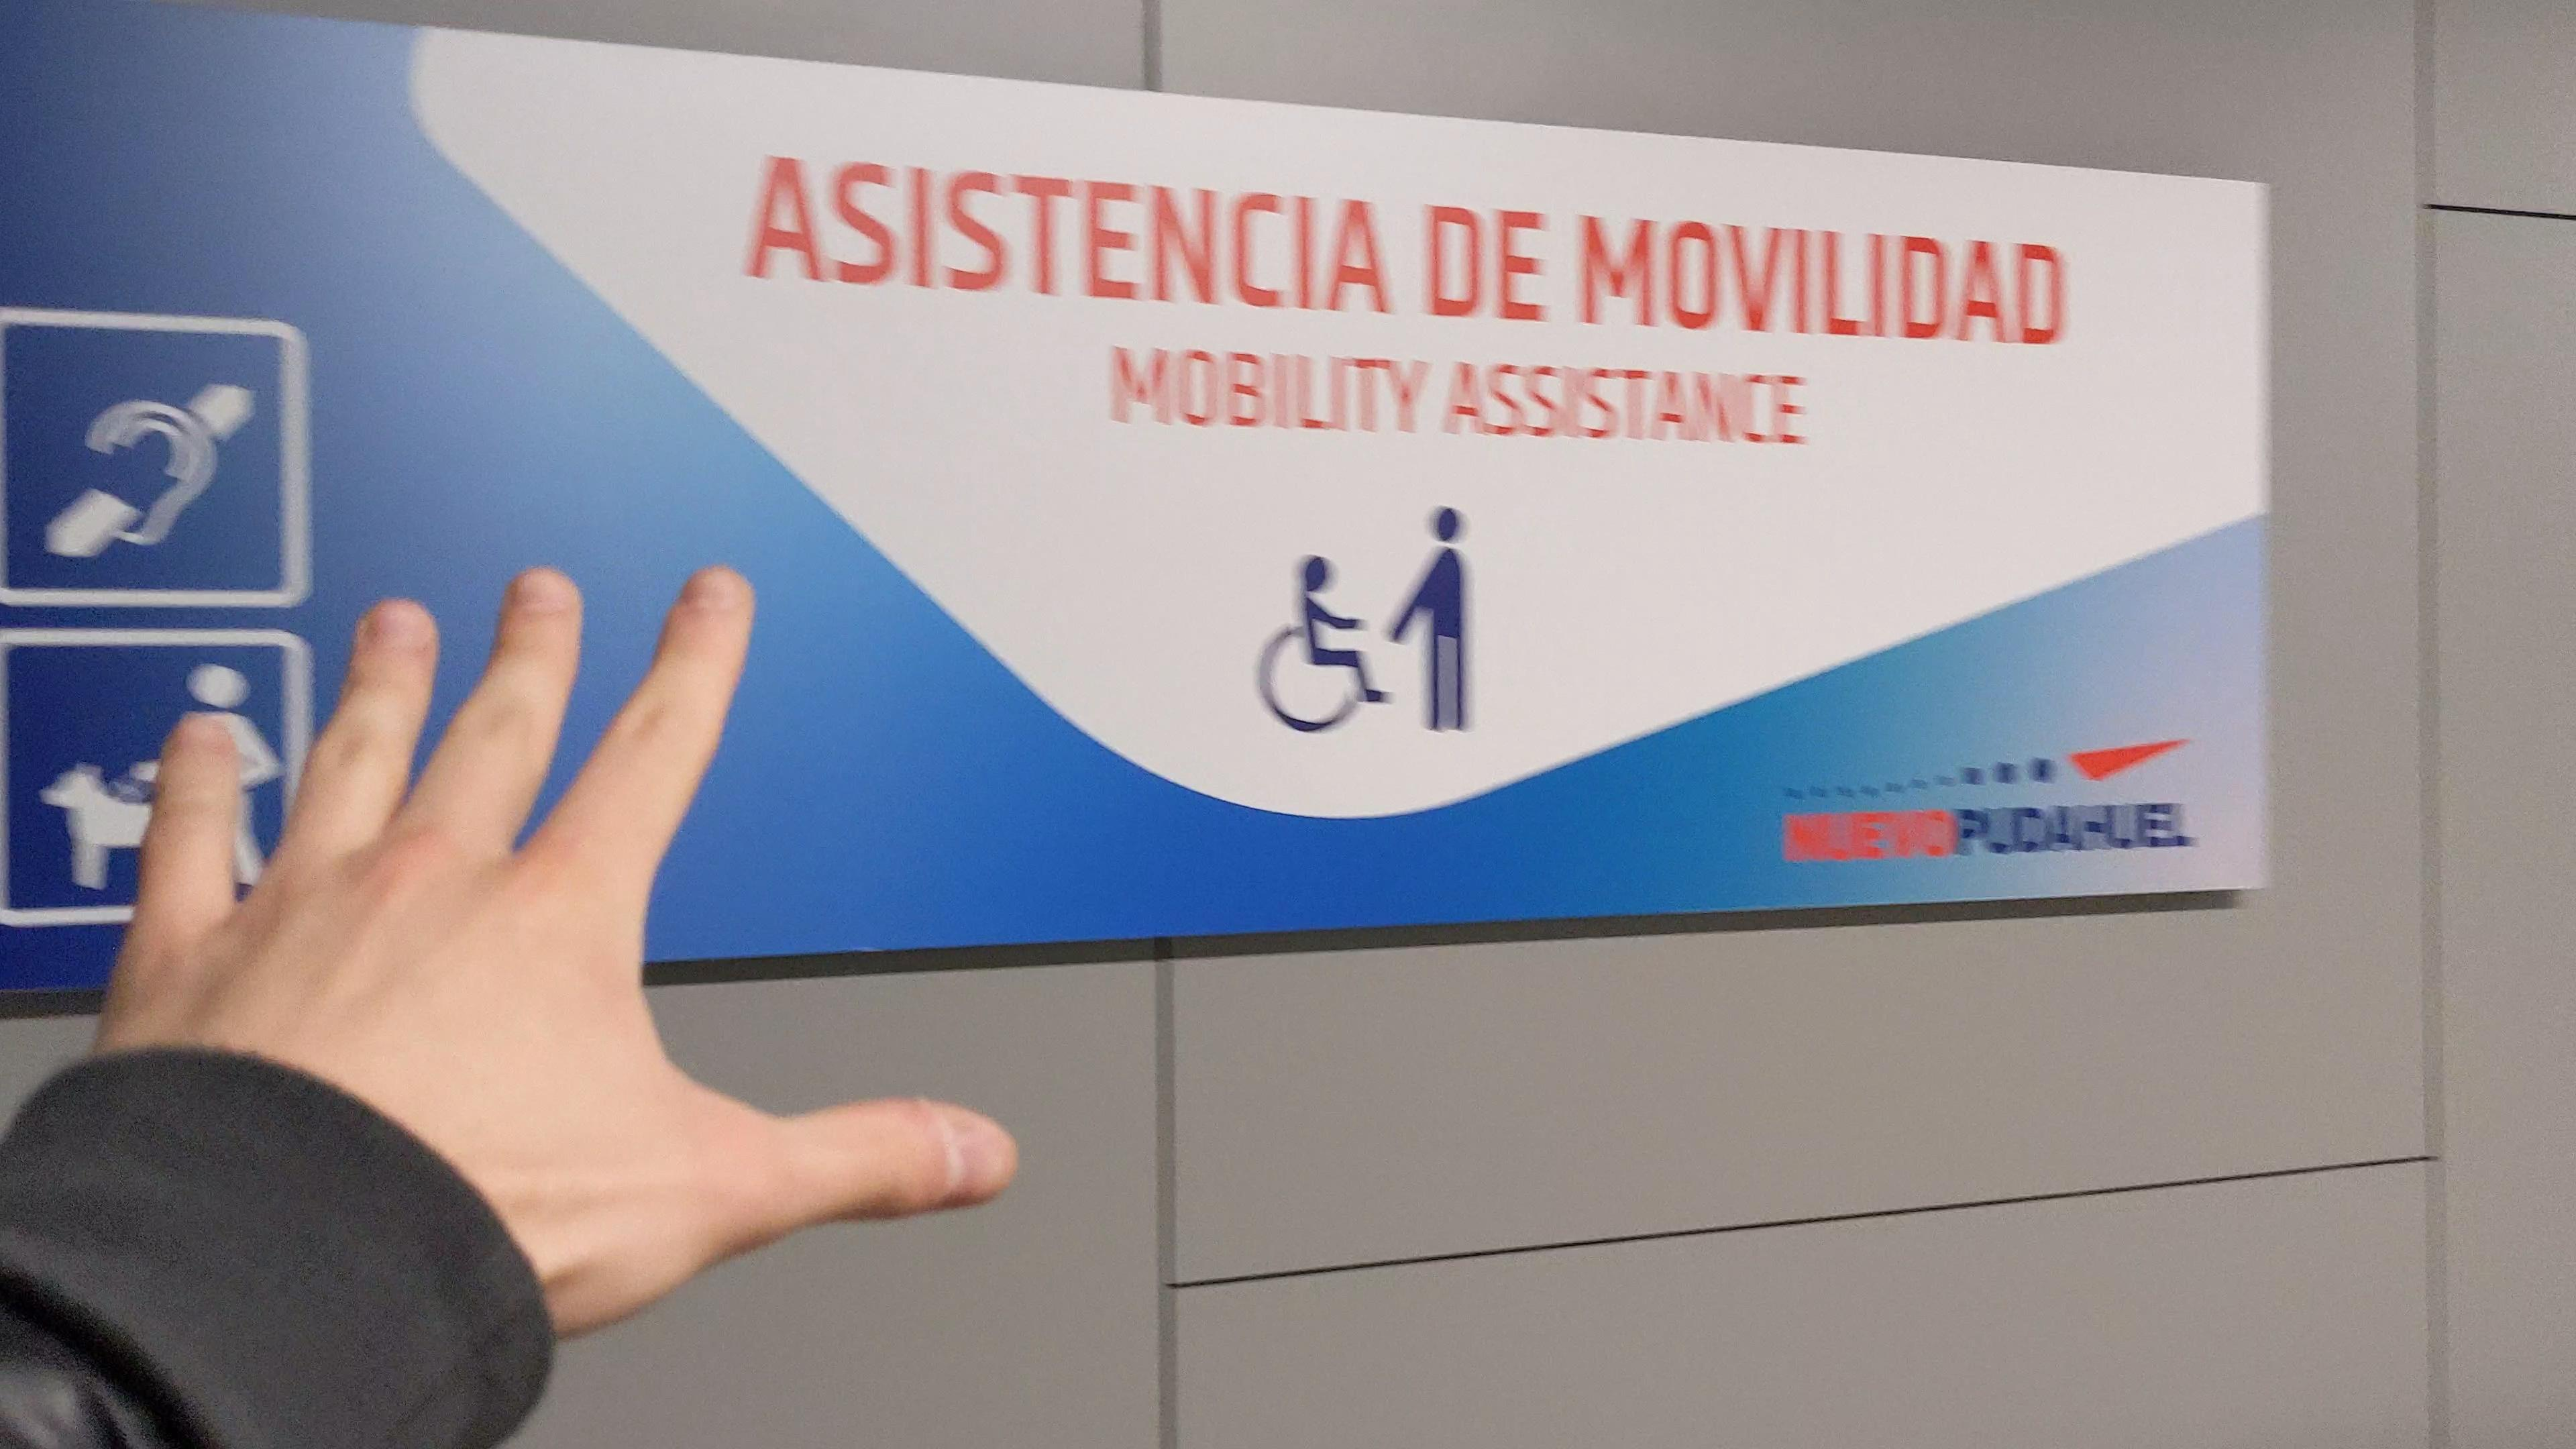handicapped symbol: (1253, 545, 1389, 738)
